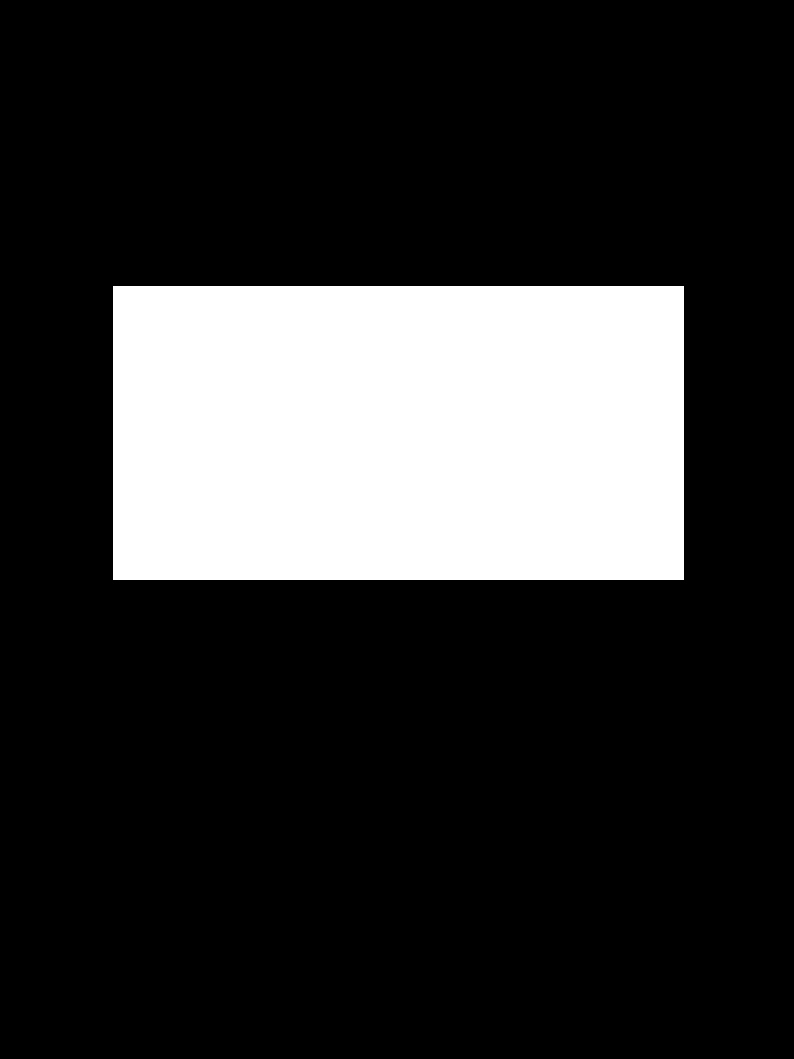table: (113, 286, 683, 579)
